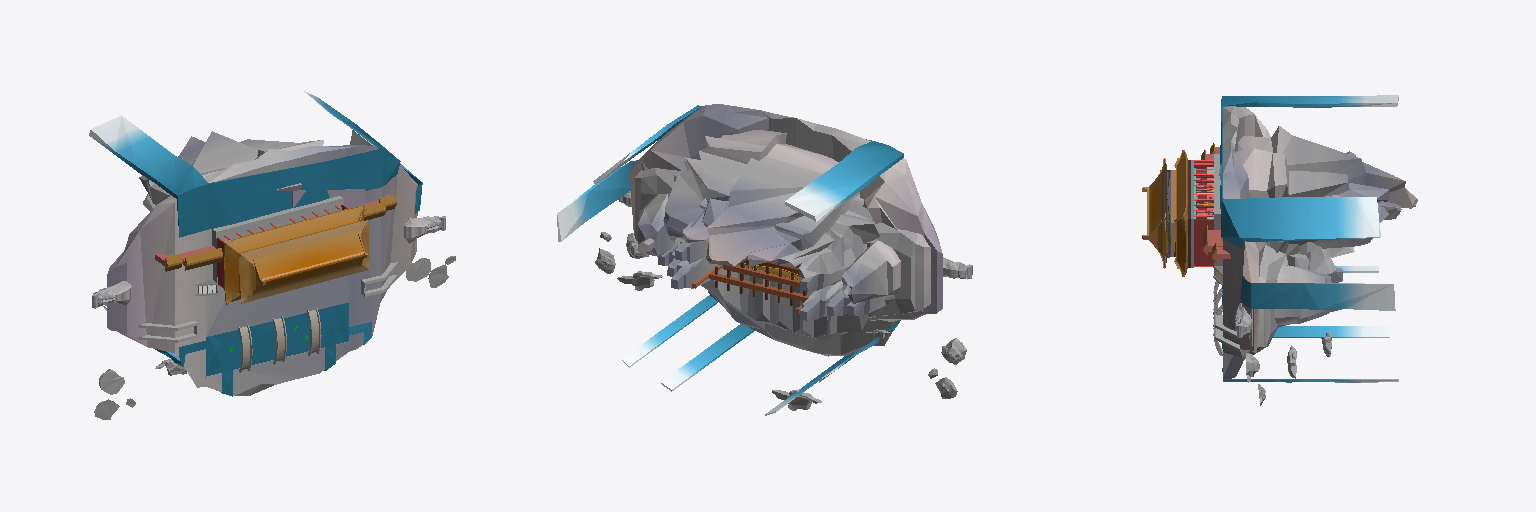
3 views of the same model, side by side, from view 1: azimuth 30°, elevation 25°; view 2: azimuth 150°, elevation 25°; view 3: azimuth 270°, elevation 25° (orthographic).
Bounding box in the file's own units: 972 × 628 × 632.
Materials: 59 (6 with a texture image).